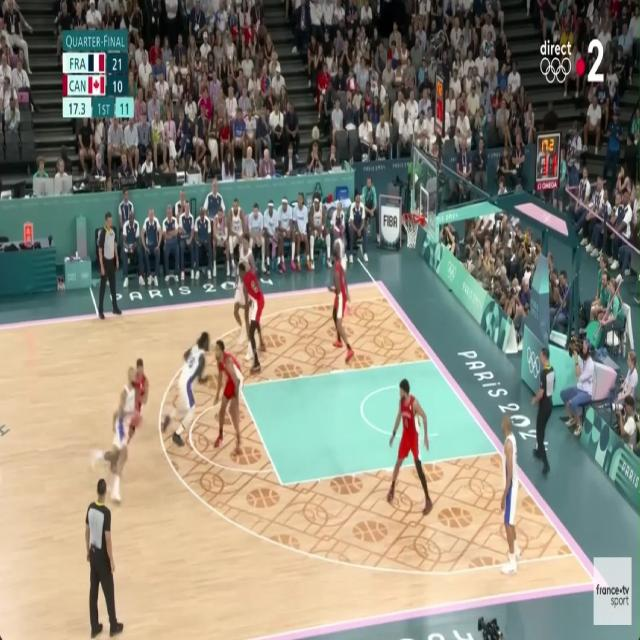ball_handler: (109, 367, 143, 500)
